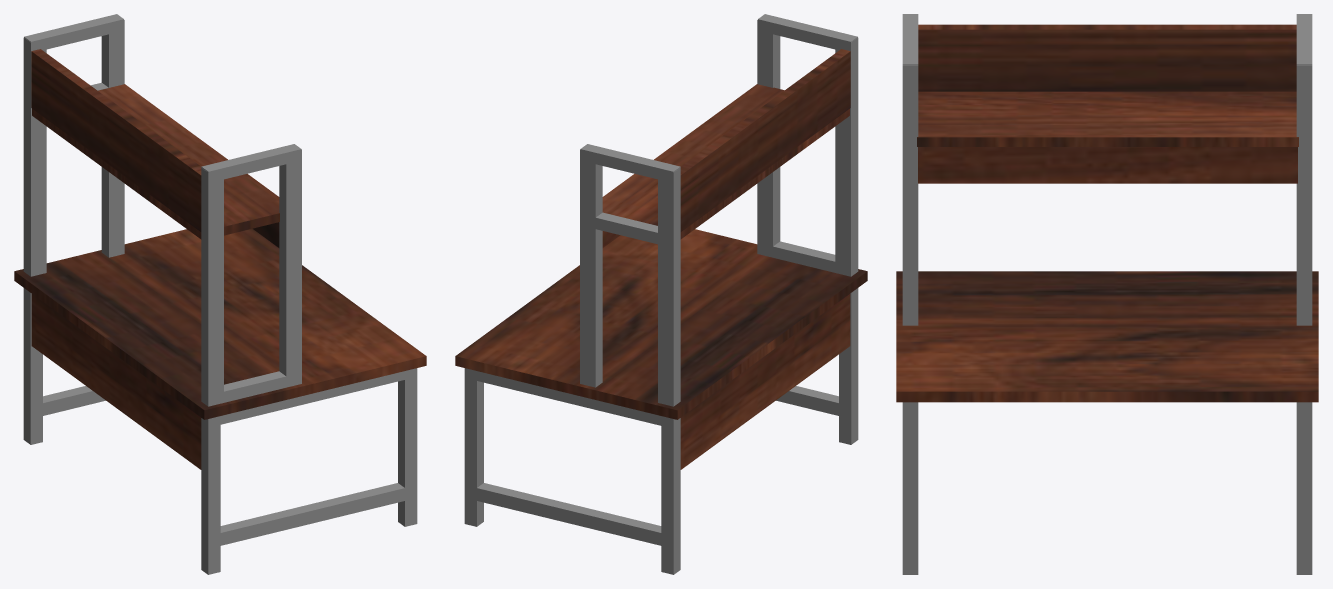
Rendered from Desk.fbx.
The picture shows the model from 3 angles, left to right: view 1: azimuth 30°, elevation 25°; view 2: azimuth 150°, elevation 25°; view 3: azimuth 270°, elevation 25°; orthographic projection. The views are drawn at different scales.
Visible parts, largest first — view 1: polySurface441; view 2: polySurface441; view 3: polySurface441.
Part boxes in pixels (left/top/right/bottom): polySurface441: left=14, top=14, right=426, bottom=574; polySurface441: left=455, top=14, right=867, bottom=574; polySurface441: left=896, top=14, right=1318, bottom=574.
Size of the model in its own units: 0.7228 by 1.25 by 1.07.
